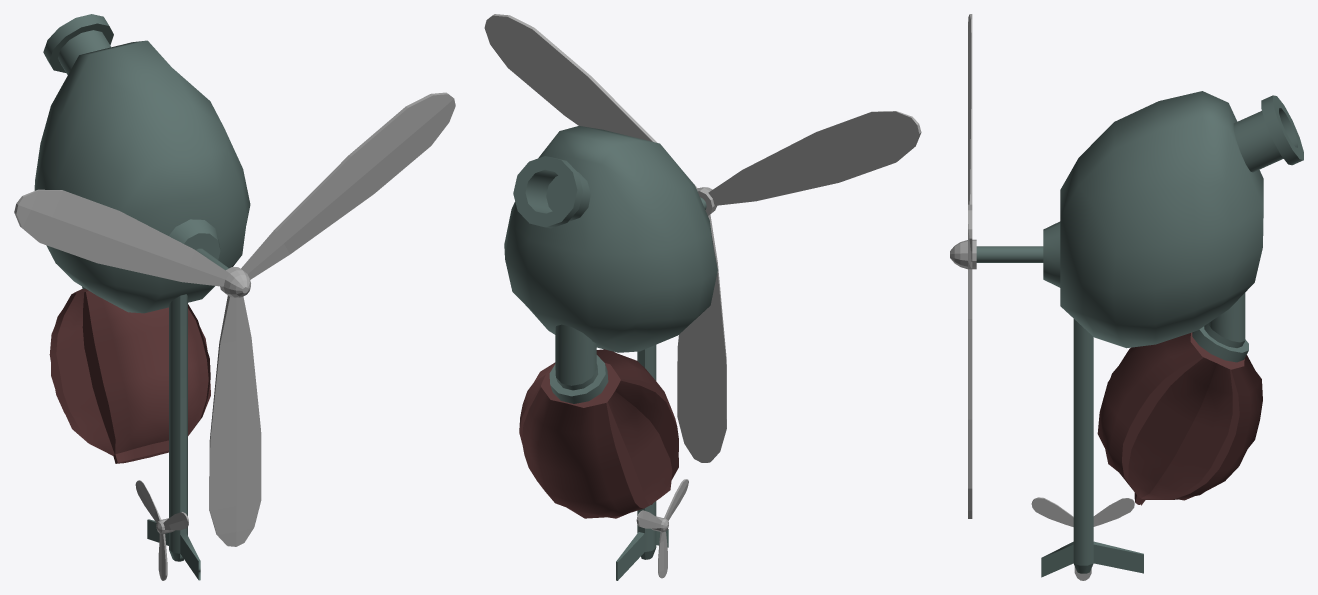
Rendered from Drone1.fbx.
3 views of the same model, side by side, from view 1: azimuth 30°, elevation 25°; view 2: azimuth 150°, elevation 25°; view 3: azimuth 270°, elevation 25° (orthographic).
Parts seen in each view (by area): view 1: bin_drone, propeller, bag, tail_propeller; view 2: bin_drone, propeller, bag, tail_propeller; view 3: bin_drone, bag, propeller, tail_propeller.
Boxes of the visible parts, <box> form: bin_drone: <box>34,14,250,580</box>; propeller: <box>14,92,455,546</box>; bag: <box>49,289,210,463</box>; tail_propeller: <box>135,480,188,580</box>; bin_drone: <box>504,126,717,580</box>; propeller: <box>484,14,921,462</box>; bag: <box>519,349,678,518</box>; tail_propeller: <box>636,479,688,578</box>; bin_drone: <box>976,91,1303,577</box>; bag: <box>1097,332,1262,505</box>; propeller: <box>950,14,976,518</box>; tail_propeller: <box>1031,497,1134,580</box>.
Size of the model in its own units: 215 by 228 by 150.
